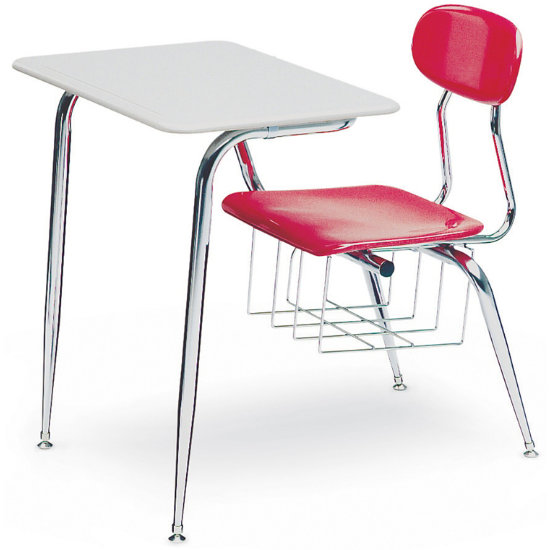desk_042.jpg: (5, 1, 545, 545)
